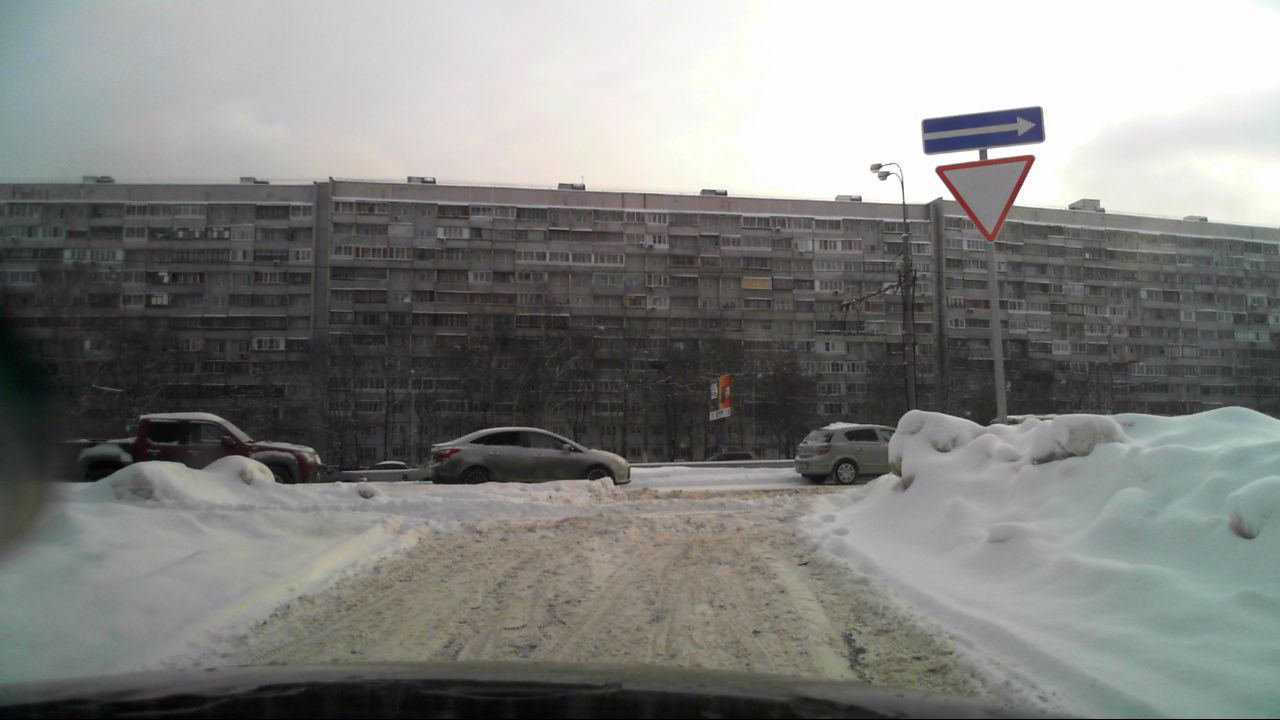One-Way Traffic: (923, 106, 1045, 154)
